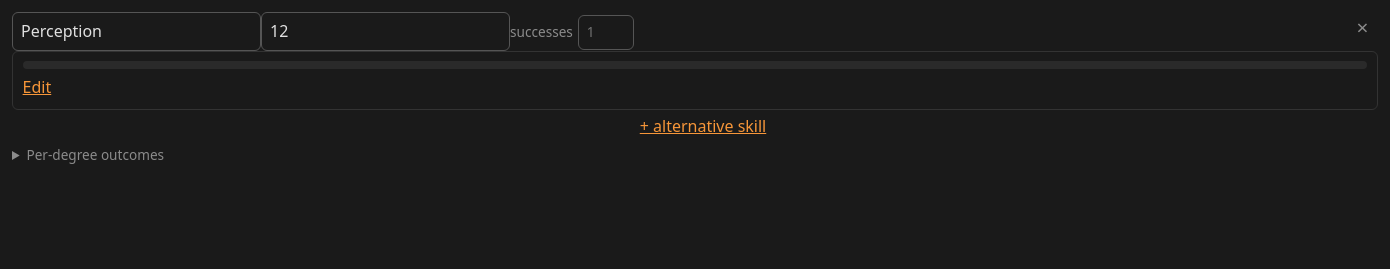
Test: SkillCheckEditor renders the effect as markdown with an Edit flip when it has content
Click the button with aria-label "edit check effect" at (37, 87), box [23,75,51,99]
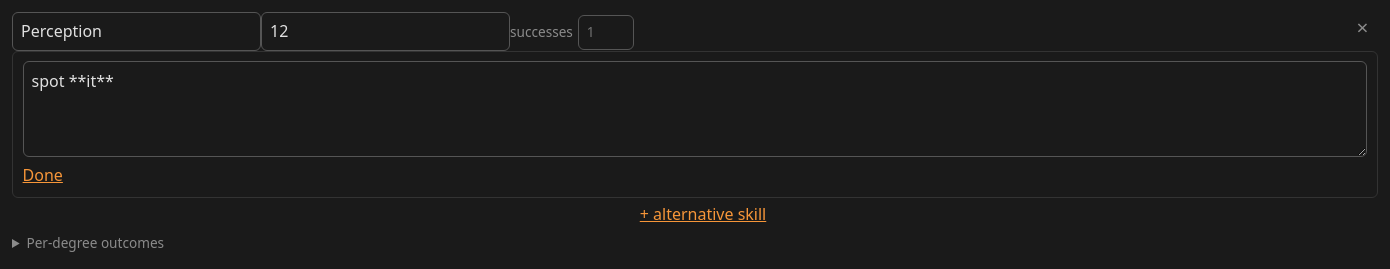
Expected: the text box named "check effect" is shown, [23,61,1367,157]
